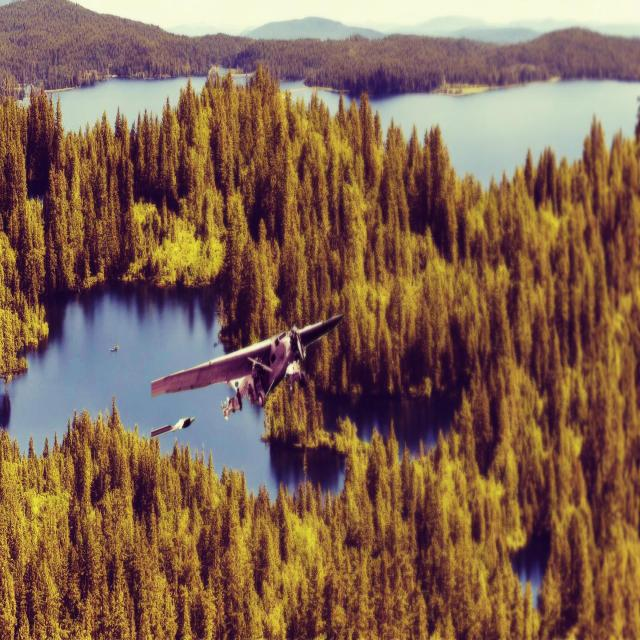airplane: (150, 312, 344, 420)
